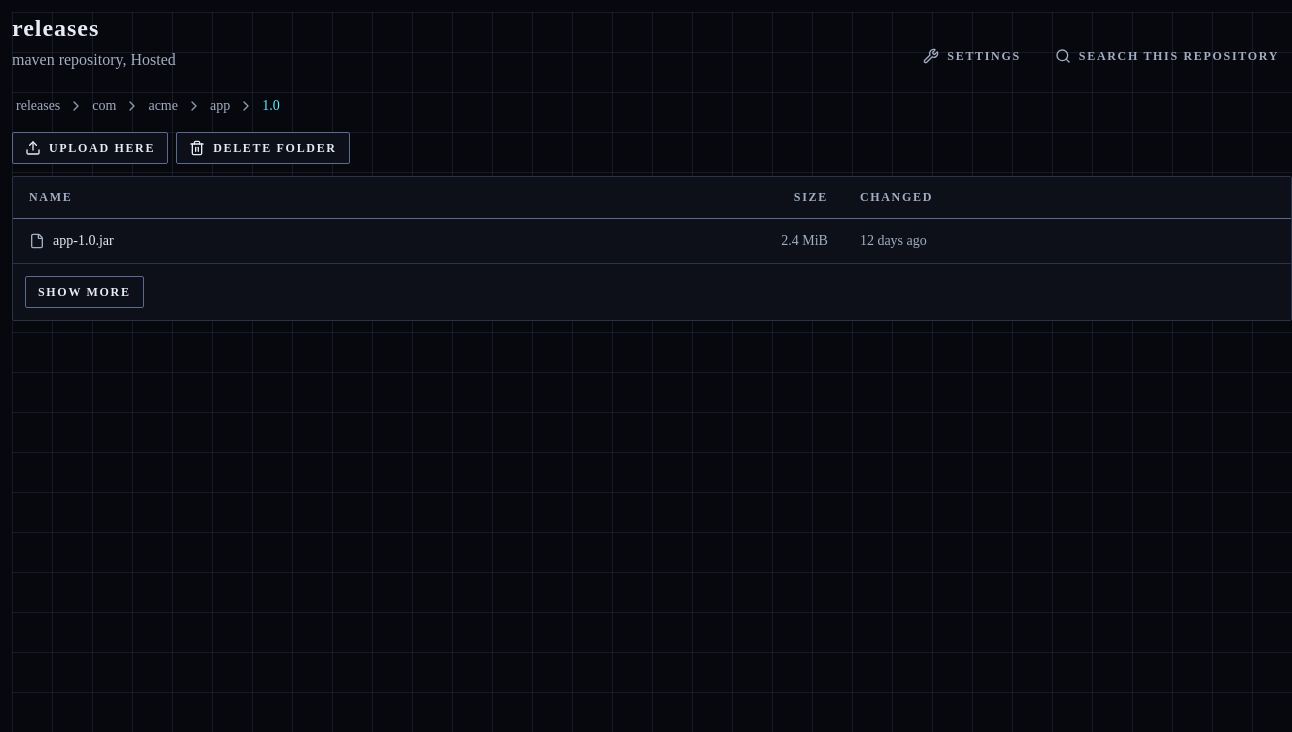
a folder of a repository › shows more of a long folder when asked, and no more than was asked for
Click the button "Show more": (84, 292) [25, 276, 144, 308]
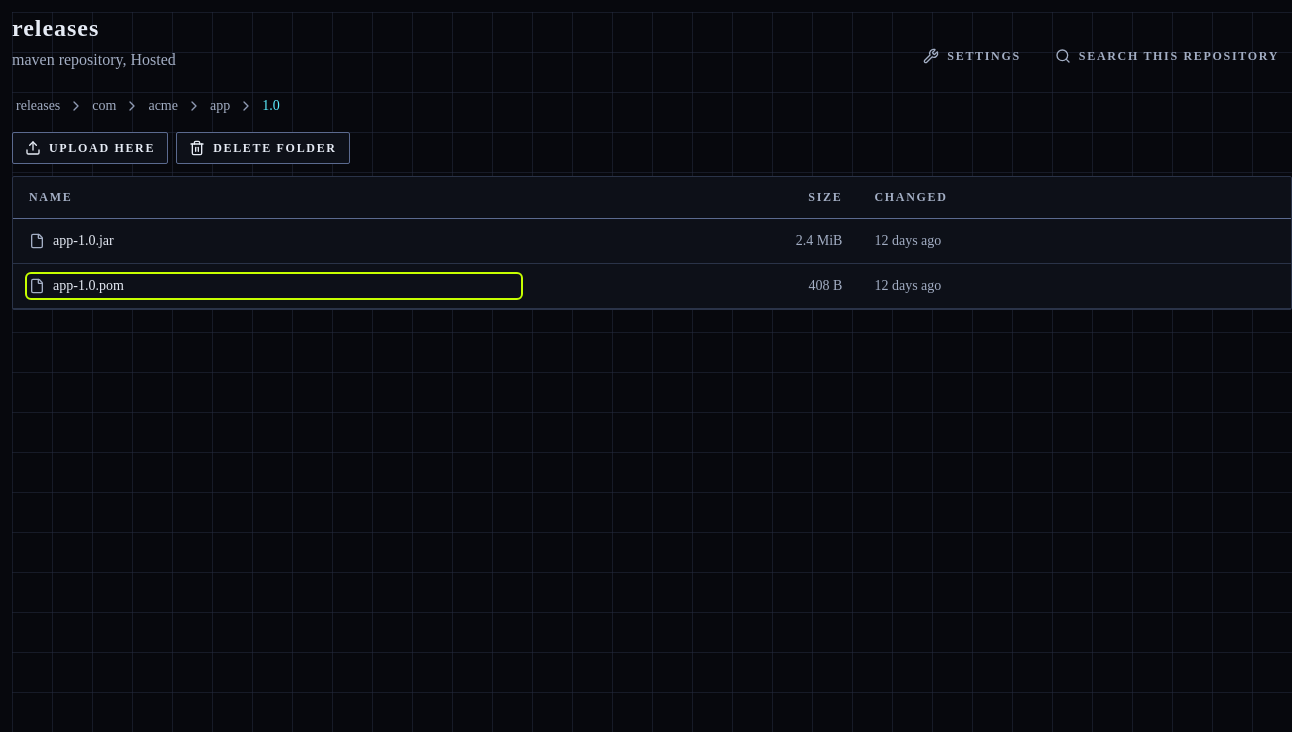
Check: the link "app-1.0.jar" is shown, box [29, 233, 114, 249]
Check: the link "app-1.0.pom" is shown, box [29, 278, 124, 294]
Check: the button "Show more" is gone
